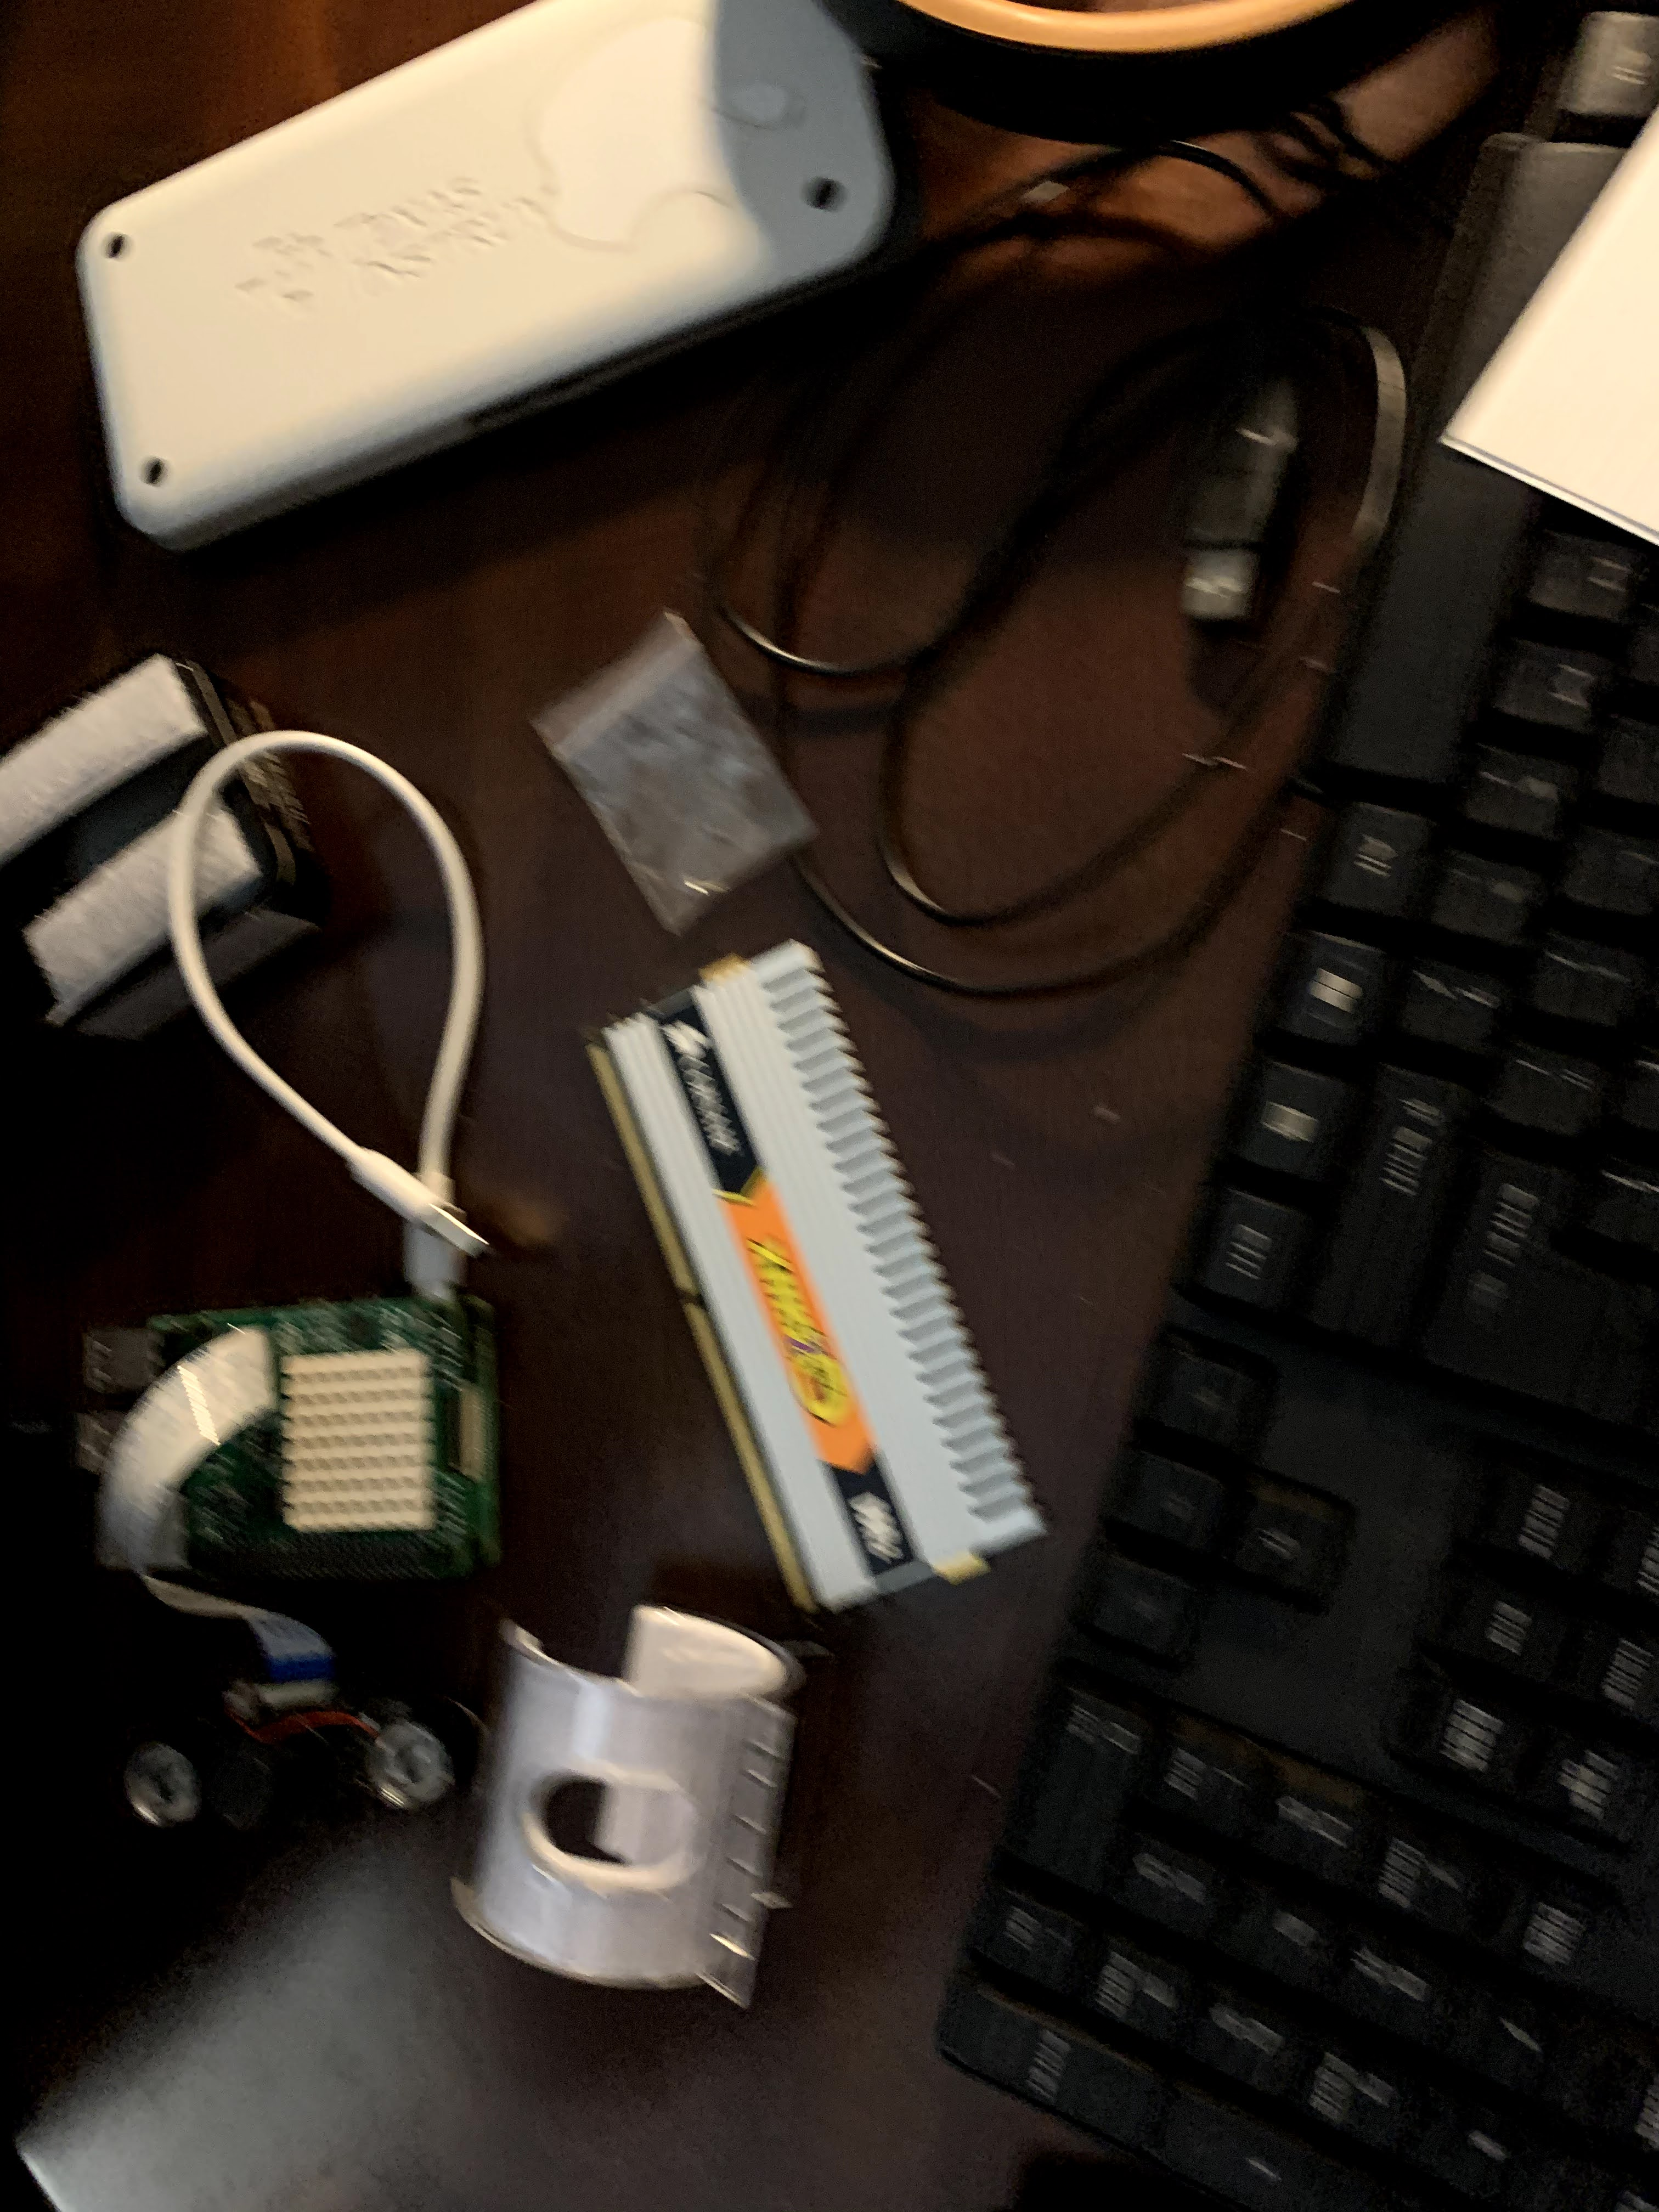Space-debris-medium: (547, 939, 1066, 1615)
